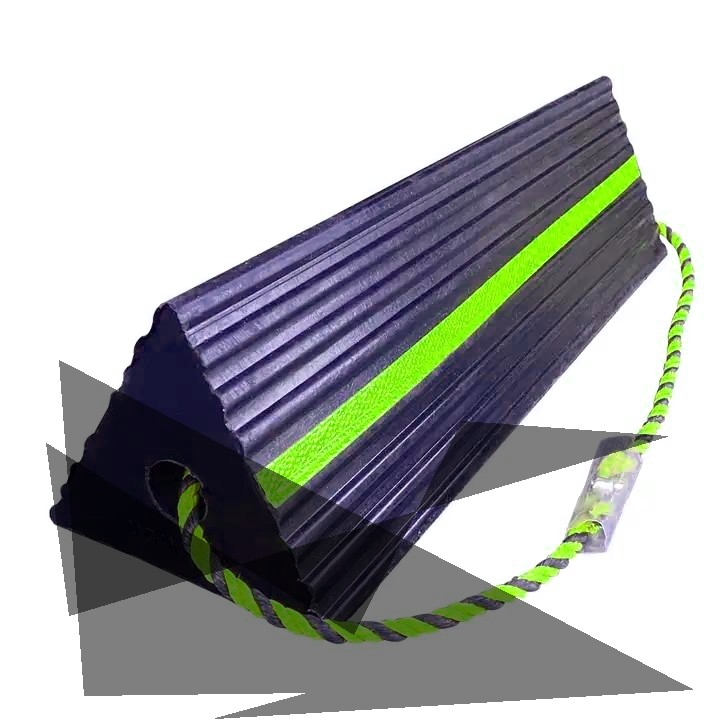chock: (46, 68, 672, 643)
